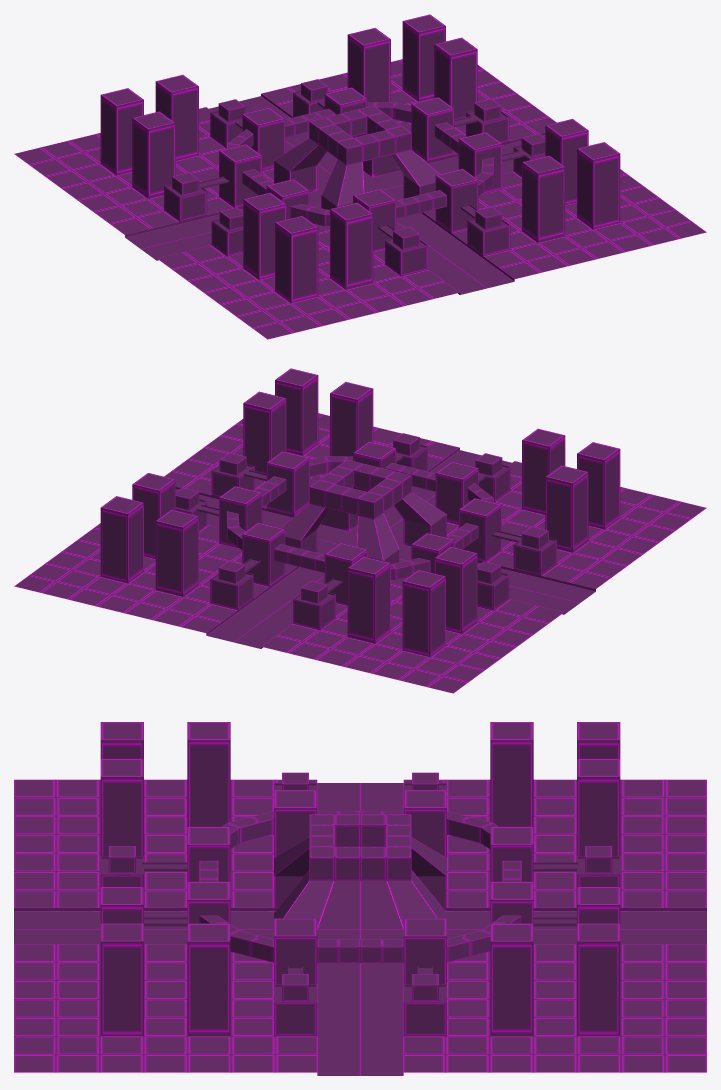
File: CityScape.fbx
The picture shows the model from 3 angles, top to bottom: view 1: azimuth 30°, elevation 25°; view 2: azimuth 150°, elevation 25°; view 3: azimuth 270°, elevation 25°; orthographic projection. The views are drawn at different scales.
Parts seen in each view (by area): view 1: CityScape; view 2: CityScape; view 3: CityScape.
Part boxes in pixels (x1,y1,x2,y2): CityScape: [14, 14, 706, 339]; CityScape: [14, 368, 706, 693]; CityScape: [14, 722, 706, 1075].
Size of the model in its own units: 200 by 31.05 by 200.
Materials: 1 (1 with a texture image).
